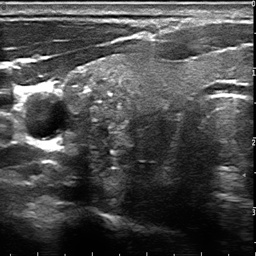mass: (66, 65, 134, 152)
